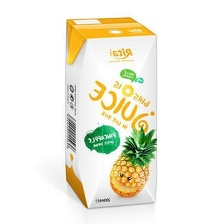carton: (51, 12, 164, 213)
